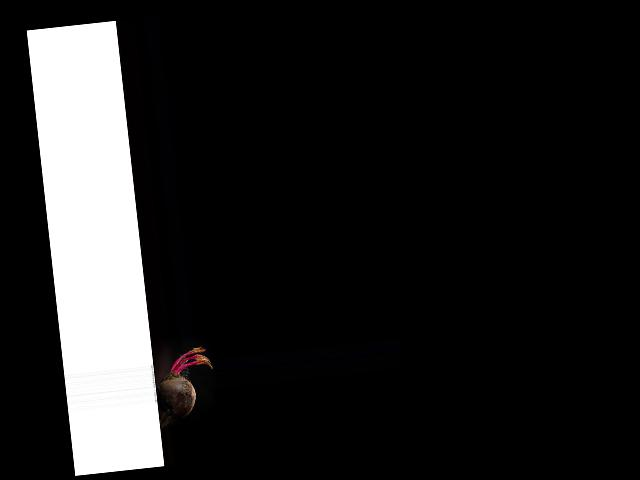beet: (152, 346, 218, 430)
